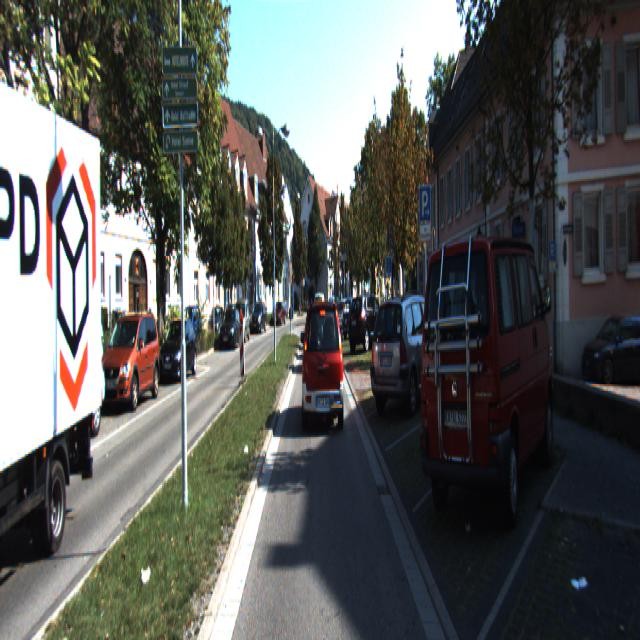Car: (0, 126, 109, 622), (419, 224, 557, 550), (0, 301, 107, 458), (370, 293, 452, 417), (97, 310, 161, 414), (303, 302, 345, 434), (581, 314, 639, 384), (58, 309, 107, 391), (158, 318, 198, 383), (347, 292, 389, 350), (340, 296, 368, 339), (220, 307, 244, 350), (335, 298, 362, 332), (233, 298, 251, 344), (250, 300, 268, 333), (271, 302, 288, 326)
